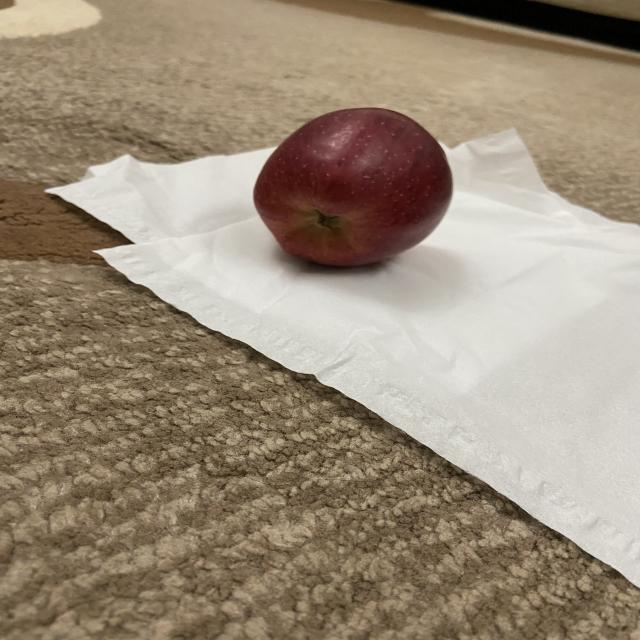apple: (250, 100, 460, 270)
